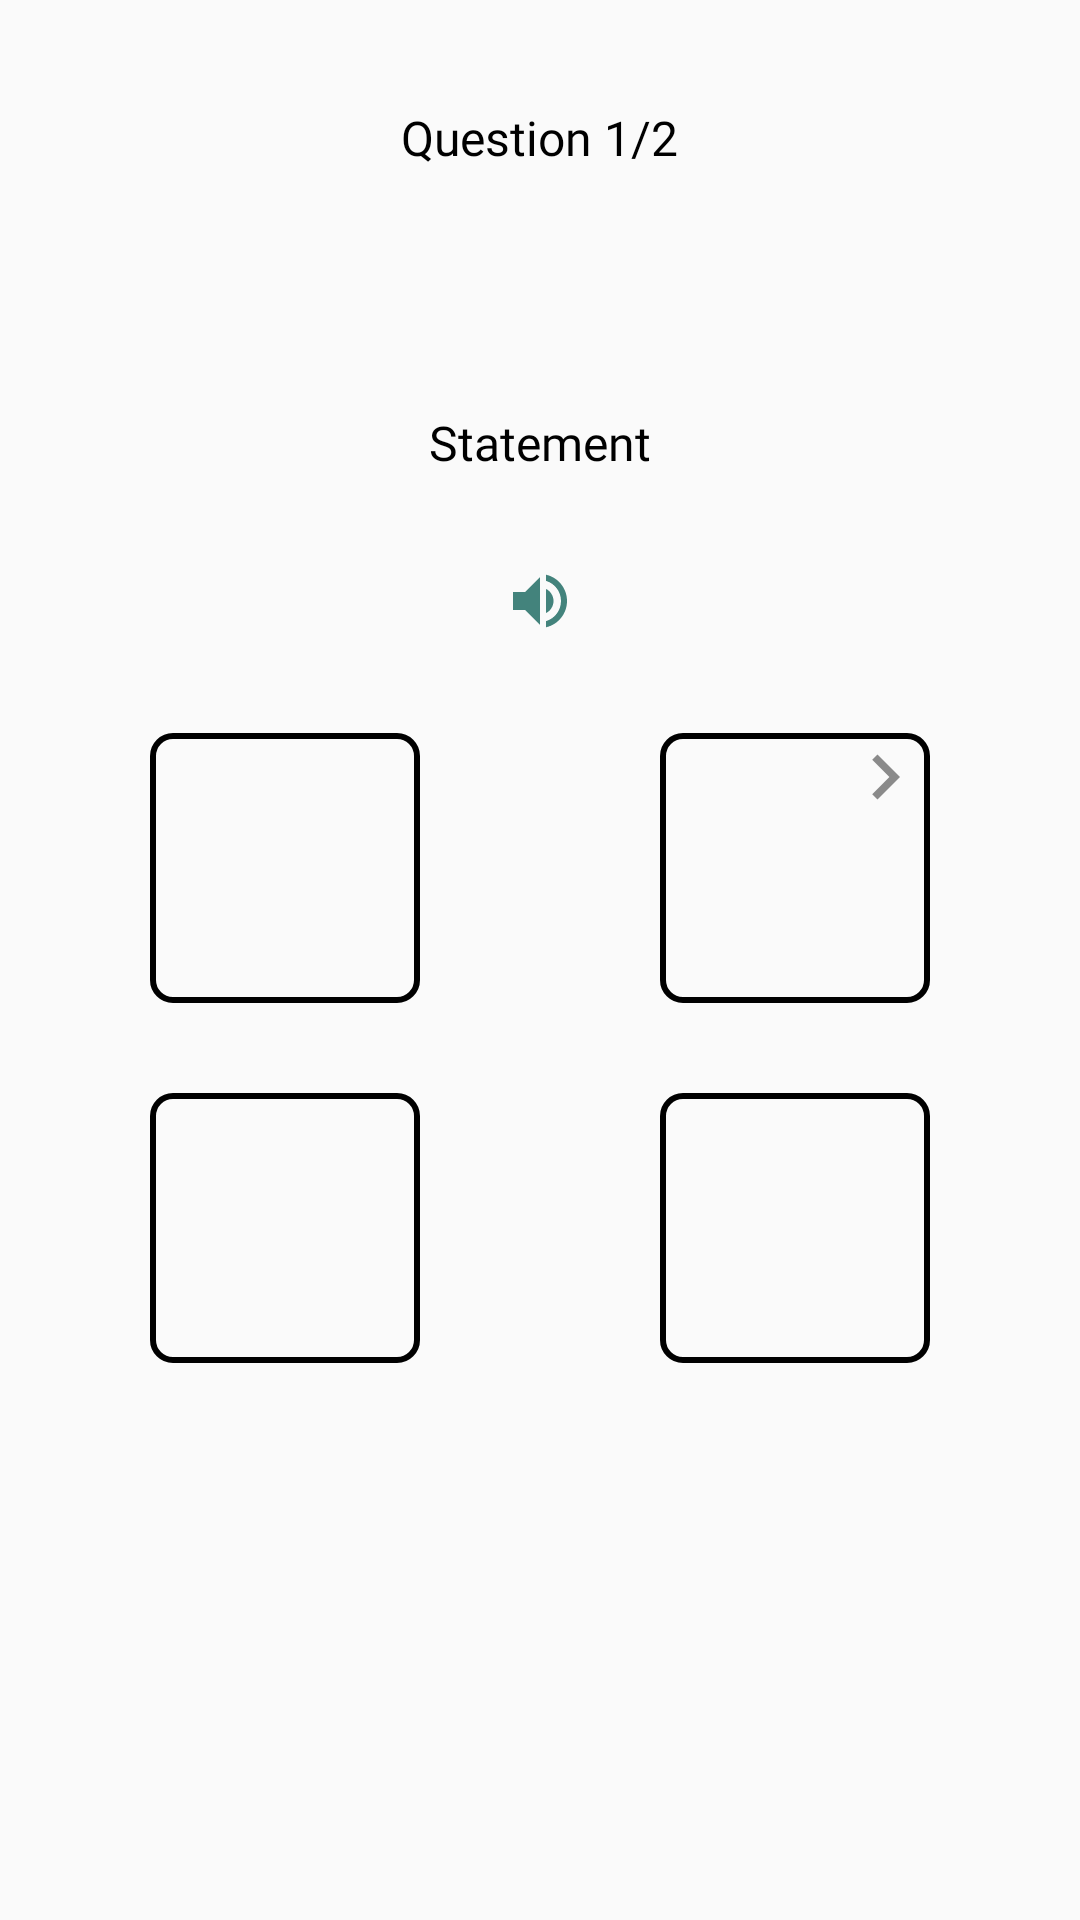

Icon click points for this 1080px x 1920px phone screenshot, format [x,y]:
listen: [540,601]
